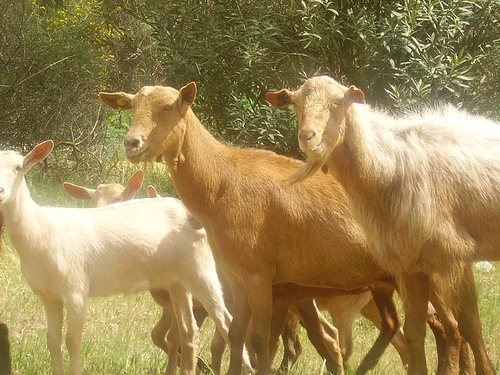goat: (97, 81, 424, 375), (264, 75, 500, 374), (1, 139, 234, 375)
